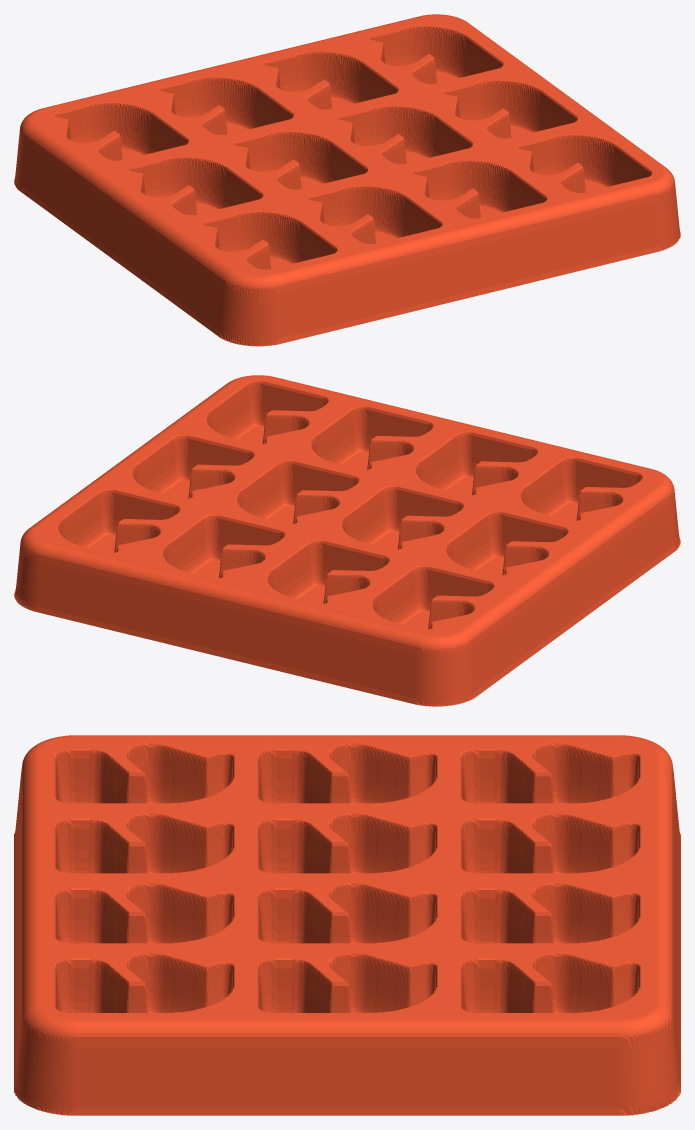
The model's file is mold.glb.
3 views of the same model, one above another, from view 1: azimuth 30°, elevation 25°; view 2: azimuth 150°, elevation 25°; view 3: azimuth 270°, elevation 25° (orthographic). The views are drawn at different scales.
Parts seen in each view (by area): view 1: geometry_0; view 2: geometry_0; view 3: geometry_0.
Boxes of the visible parts, <box> form: geometry_0: <box>14,14,680,346</box>; geometry_0: <box>14,375,680,706</box>; geometry_0: <box>14,735,680,1115</box>.
Bounding box in the file's own units: 0.1039 × 0.0136 × 0.0963.
